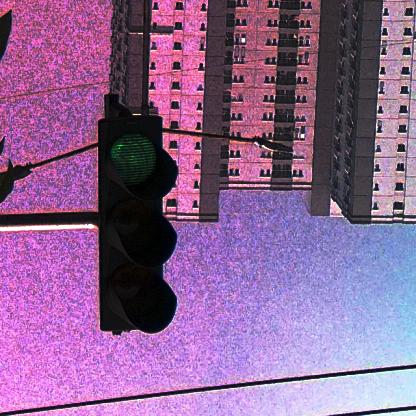Traffic Light -Green-: (97, 117, 173, 332)
